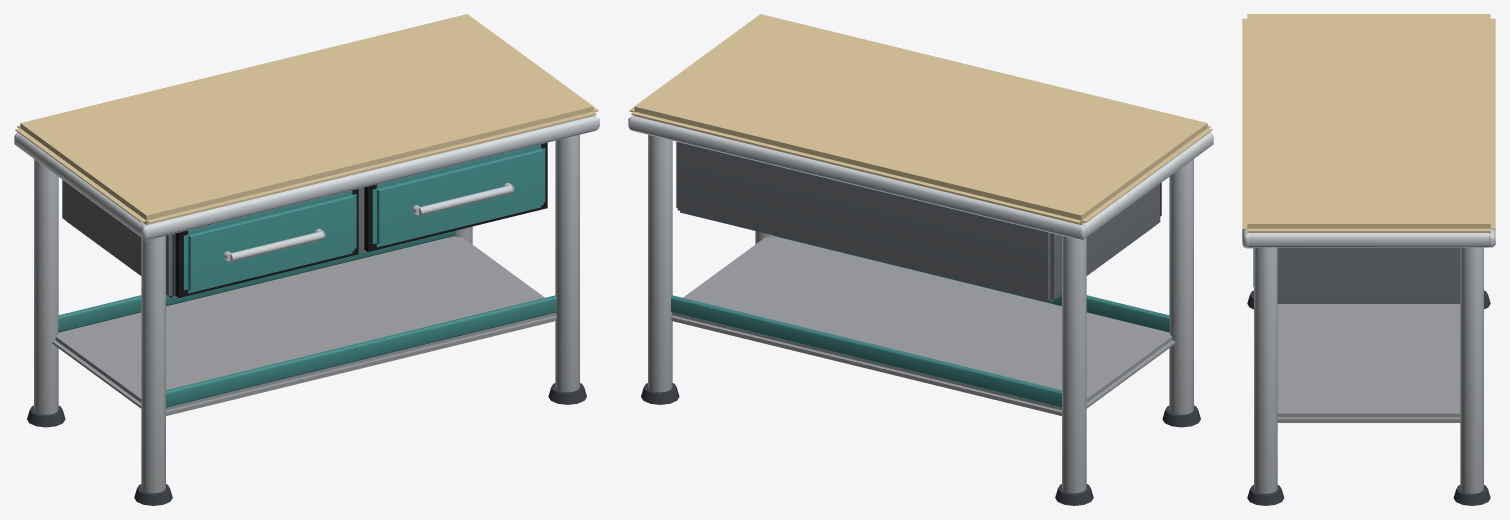
File: SM_WorkTable_Drawers_15.glb
3 renders of one model, left to right at view 1: azimuth 30°, elevation 25°; view 2: azimuth 150°, elevation 25°; view 3: azimuth 270°, elevation 25°, orthographic. The views are drawn at different scales.
Parts seen in each view (by area): view 1: SM_WorkTable_Drawers_15; view 2: SM_WorkTable_Drawers_15; view 3: SM_WorkTable_Drawers_15.
Part boxes in pixels (bbox=[...]): SM_WorkTable_Drawers_15: bbox=[14, 14, 599, 505]; SM_WorkTable_Drawers_15: bbox=[628, 14, 1213, 505]; SM_WorkTable_Drawers_15: bbox=[1242, 14, 1495, 505].
Size of the model in its own units: 1.5 by 0.92 by 0.75.
1 material, 1 textured.
